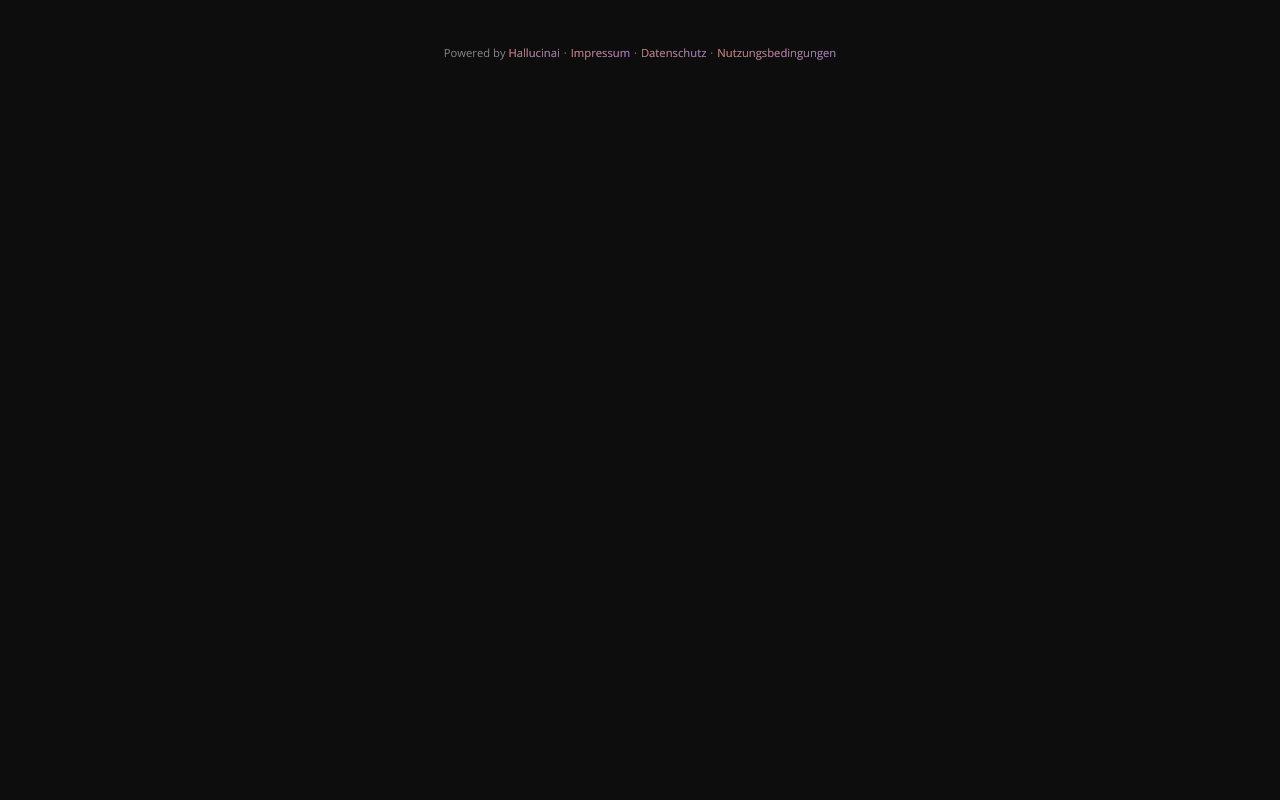
Test: SharedFooter legal overlay › moves focus into the overlay and keeps it there while tabbing
Click the button with class "link-btn" showing "Impressum".
click(600, 52)  # box [571, 45, 630, 60]
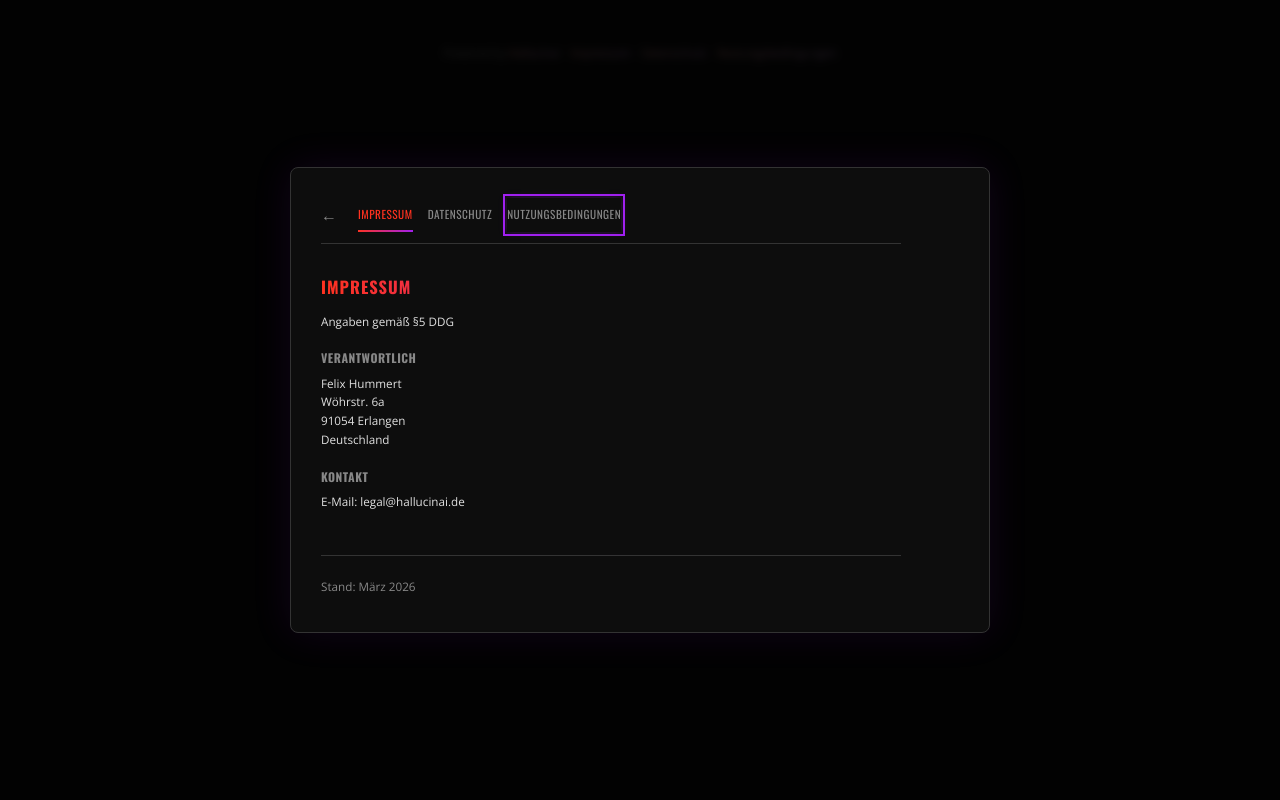
expect the button "←" is shown: met, box [321, 198, 343, 232]
